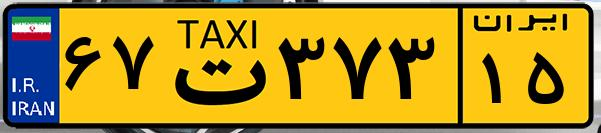1: (475, 38, 525, 113)
3: (270, 28, 330, 110), (385, 28, 445, 110)
5: (525, 38, 570, 115)
6: (57, 26, 110, 100)
7: (330, 28, 385, 110), (110, 28, 158, 98)
ت: (158, 12, 270, 120)
